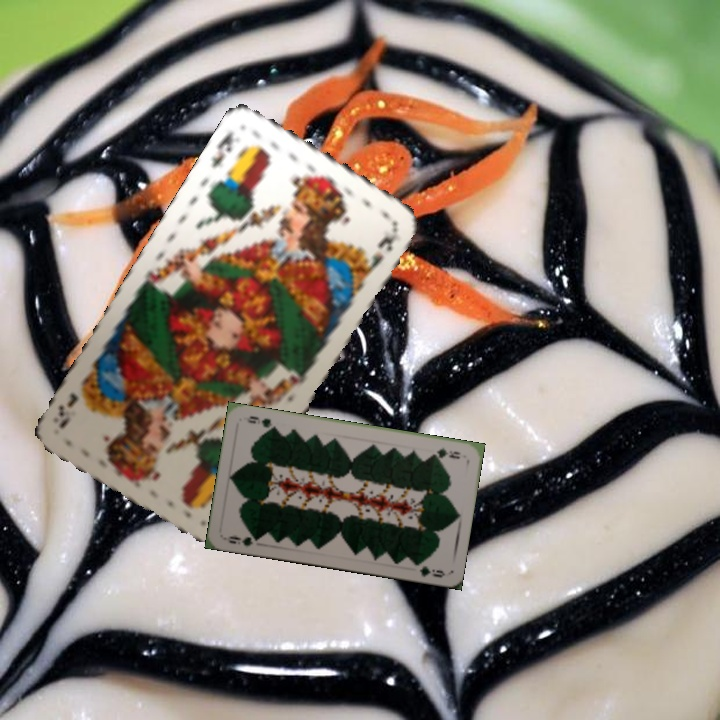EK: (207, 126, 237, 171)
G9: (221, 531, 262, 549), (426, 443, 463, 462)
